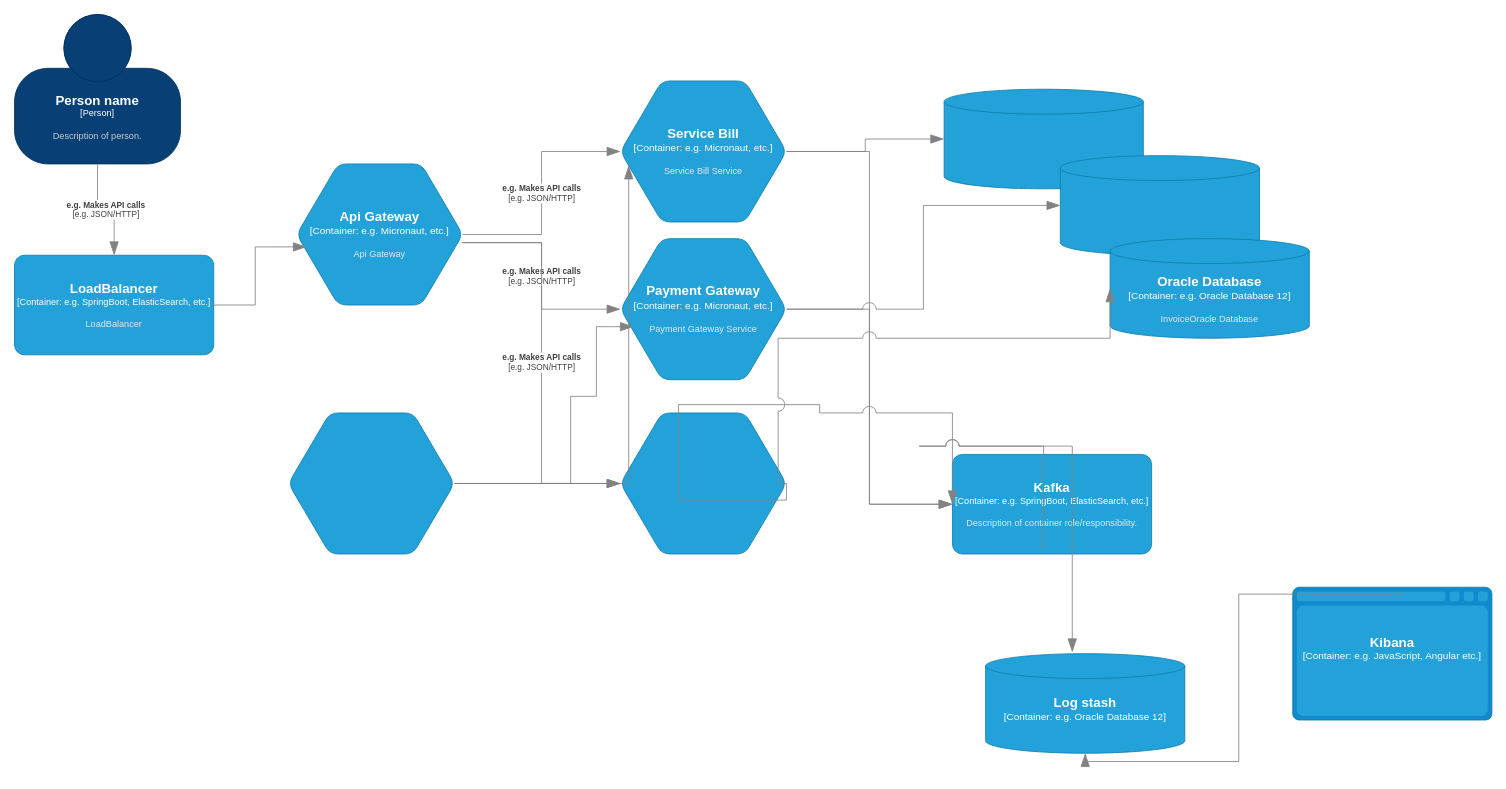
Image size: 1506x789. Some labels were removed from this diagram. The shapes that lost their labels are listed below. From the top down, each one's centre as x and y in pixels, then its label:
At (x=1043, y=138): "Oracle Database [Container: e.g. Oracle Database 12] ServiceBill Oracle Database".
At (x=1159, y=205): "Oracle Database [Container: e.g. Oracle Database 12] Gateway Oracle Database".
At (x=371, y=483): "Service Registry [Container: e.g. Micronaut, etc.] Service Registry".
At (x=703, y=483): "Invoice [Container: e.g. Micronaut, etc.] Invoice Service".
